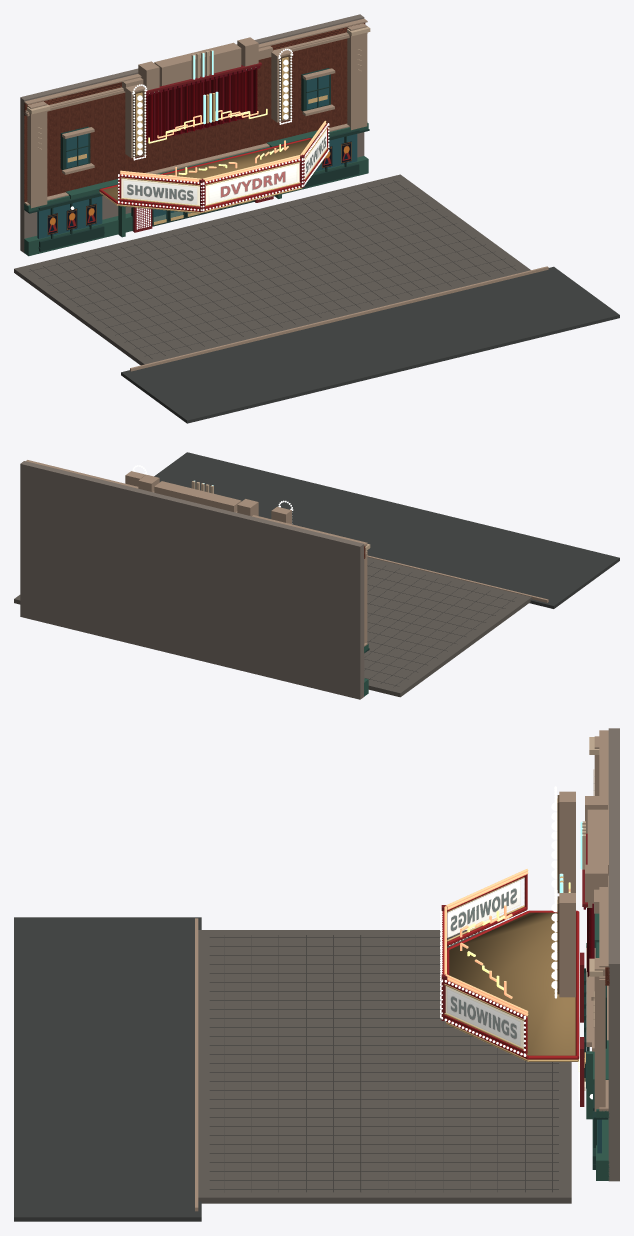
The model's file is DVYDRM_Cinema2_Theater.glb.
3 views of the same model, one above another, from view 1: azimuth 30°, elevation 25°; view 2: azimuth 150°, elevation 25°; view 3: azimuth 270°, elevation 25° (orthographic). The views are drawn at different scales.
Visible parts, largest first — view 1: pavement.walkway, pavement.street, facade.wall.brick_uv_tiles, curtain.fabric.mesh, facade.wall.base, facade.pilaster_+10.35, facade.pilaster_-10.35, pavement.curb, facade.crest.center, canopy.shell.true_footprint, marquee.front.TEXT_SURFACE, facade.green_wainscot (+14 smaller); view 2: facade.wall.base, pavement.street, pavement.walkway, facade.crest.center, facade.stone_course.9.34, pavement.curb, facade.pilaster_-10.35; view 3: pavement.walkway, pavement.street, canopy.shell.true_footprint, facade.wall.base, marquee.right.TEXT_SURFACE, marquee.left.TEXT_SURFACE, tower.right.body, facade.pilaster_+10.35, tower.left.body, facade.stone_course.9.34, facade.crest.center, pavement.curb (+1 smaller).
Boxes of the visible parts, left/top/right/bottom form: pavement.walkway: left=14, top=174, right=530, bottom=365; pavement.street: left=121, top=266, right=619, bottom=423; facade.wall.brick_uv_tiles: left=24, top=38, right=347, bottom=202; curtain.fabric.mesh: left=146, top=68, right=257, bottom=142; facade.wall.base: left=20, top=14, right=364, bottom=252; facade.pilaster_+10.35: left=347, top=23, right=367, bottom=130; facade.pilaster_-10.35: left=27, top=101, right=47, bottom=208; pavement.curb: left=130, top=266, right=548, bottom=371; facade.crest.center: left=154, top=42, right=241, bottom=86; canopy.shell.true_footprint: left=103, top=139, right=312, bottom=200; marquee.front.TEXT_SURFACE: left=208, top=165, right=297, bottom=203; facade.green_wainscot: left=24, top=156, right=368, bottom=256; facade.wall.base: left=20, top=461, right=364, bottom=699; pavement.street: left=154, top=452, right=619, bottom=608; pavement.walkway: left=14, top=557, right=531, bottom=697; facade.crest.center: left=154, top=481, right=241, bottom=512; facade.stone_course.9.34: left=26, top=460, right=367, bottom=545; pavement.curb: left=367, top=555, right=548, bottom=602; facade.pilaster_-10.35: left=364, top=544, right=367, bottom=643; pavement.walkway: left=198, top=930, right=571, bottom=1203; pavement.street: left=14, top=917, right=201, bottom=1221; canopy.shell.true_footprint: left=449, top=912, right=575, bottom=1055; facade.wall.base: left=608, top=728, right=619, bottom=1181; marquee.right.TEXT_SURFACE: left=447, top=988, right=520, bottom=1045; marquee.left.TEXT_SURFACE: left=447, top=880, right=520, bottom=937; tower.right.body: left=559, top=893, right=575, bottom=997; facade.pilaster_+10.35: left=594, top=958, right=605, bottom=1111; tower.left.body: left=559, top=791, right=575, bottom=892; facade.stone_course.9.34: left=599, top=730, right=608, bottom=967; facade.crest.center: left=587, top=809, right=608, bottom=875; pavement.curb: left=195, top=918, right=198, bottom=1211.
Size of the model in its own units: 28 by 10.58 by 23.91.
30 materials, 6 textured.
